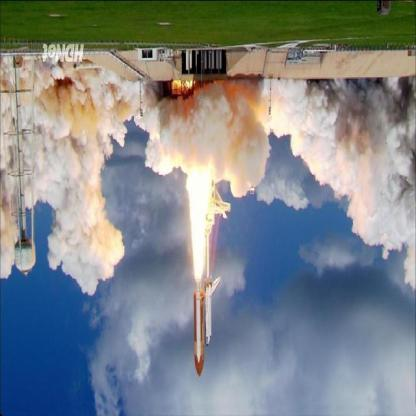MIL_TBM: (193, 280, 202, 364), (204, 278, 212, 348)
